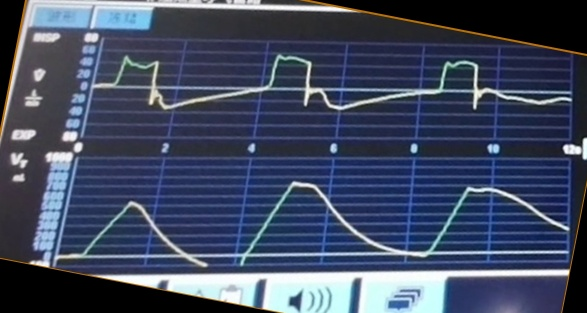Premature_cycling Flow: (101, 50, 554, 135)
Premature_cycling Volume: (73, 177, 566, 268)
